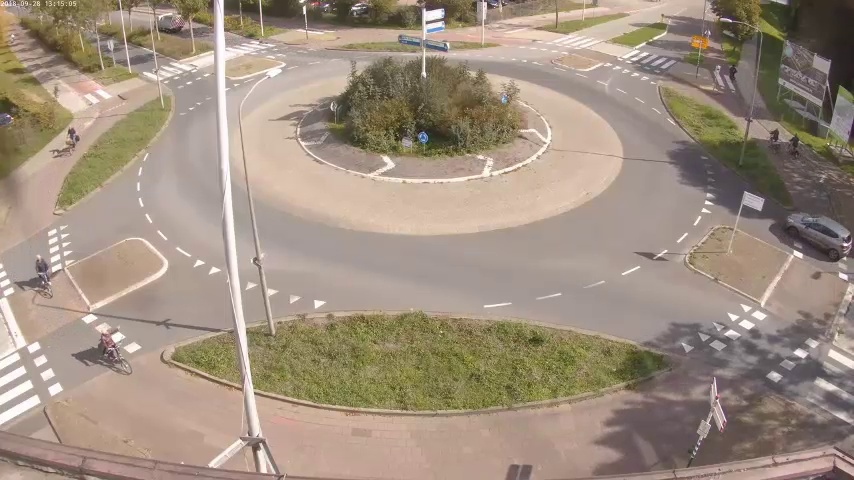bicycle: (96, 328, 129, 375), (33, 249, 53, 300), (62, 125, 81, 160), (766, 123, 780, 158), (788, 129, 801, 164)
car: (781, 209, 850, 260), (156, 9, 186, 31)
